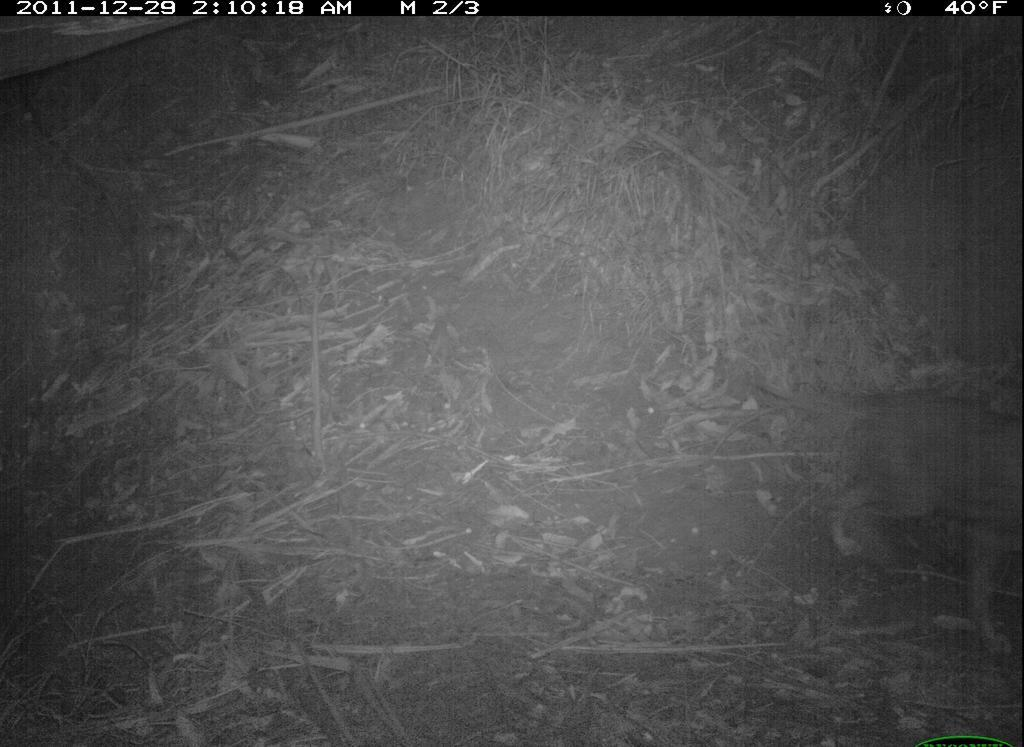coyote: (788, 353, 1023, 652)
